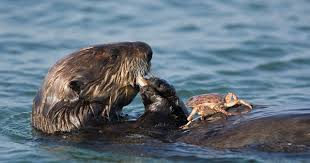otter: (24, 25, 177, 144)
